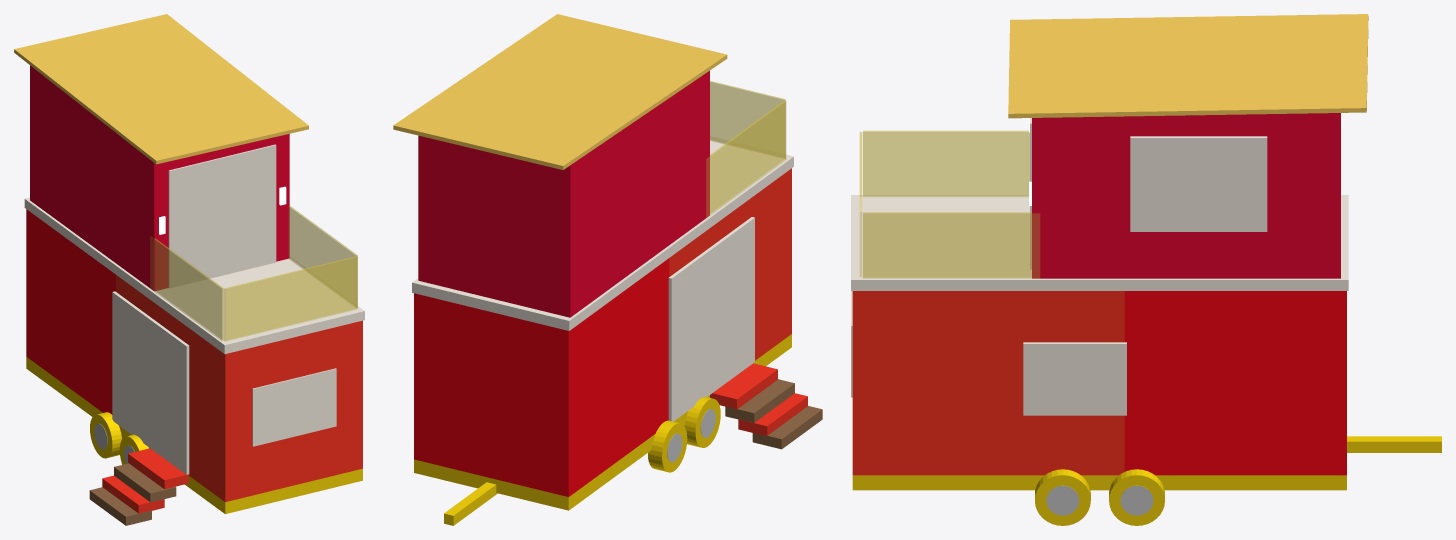
3 views of the same model, side by side, from view 1: azimuth 30°, elevation 25°; view 2: azimuth 150°, elevation 25°; view 3: azimuth 270°, elevation 25° (orthographic). The views are drawn at different scales.
Parts seen in each view (by area): view 1: Roof_TimberSoffit, GF_Front_Wood, Upper_Room_Body, Upper_Floor_Deck, GF_Rear_Charcoal, Balcony_Door_Trim, GF_Door_Trim, Balcony_Glass_Front, GF_FrontWin_Trim, Balcony_Glass_Left, Balcony_Glass_Right, Chassis_Base (+5 smaller); view 2: Upper_Room_Body, GF_Rear_Charcoal, Roof_TimberSoffit, GF_Door_Trim, Upper_Floor_Deck, GF_Front_Wood, Balcony_Glass_Left, Balcony_Glass_Front, Chassis_Base, Stair_Plank1, Stair_Plank1.001, Stair_Plank1.002 (+4 smaller); view 3: GF_Front_Wood, GF_Rear_Charcoal, Upper_Room_Body, Roof_TimberSoffit, Upper_Floor_Deck, Upper_SideWin_Trim, Balcony_Glass_Right, Balcony_Glass_Left, GF_RightWin_Trim, Chassis_Base, Tire_R_0.45, Tire_R_-0.45 (+3 smaller).
Boxes of the visible parts, x1=… form: Roof_TimberSoffit: x1=14, y1=14, x2=308, y2=164; GF_Front_Wood: x1=116, y1=275, x2=362, y2=502; Upper_Room_Body: x1=30, y1=65, x2=289, y2=291; Upper_Floor_Deck: x1=24, y1=197, x2=364, y2=353; GF_Rear_Charcoal: x1=26, y1=209, x2=115, y2=414; Balcony_Door_Trim: x1=168, y1=144, x2=276, y2=288; GF_Door_Trim: x1=112, y1=291, x2=189, y2=474; Balcony_Glass_Front: x1=224, y1=256, x2=357, y2=341; GF_FrontWin_Trim: x1=252, y1=368, x2=336, y2=446; Balcony_Glass_Left: x1=150, y1=237, x2=223, y2=340; Balcony_Glass_Right: x1=288, y1=206, x2=357, y2=307; Chassis_Base: x1=26, y1=357, x2=362, y2=514; Upper_Room_Body: x1=418, y1=71, x2=709, y2=317; GF_Rear_Charcoal: x1=414, y1=258, x2=669, y2=496; Roof_TimberSoffit: x1=393, y1=14, x2=727, y2=169; GF_Door_Trim: x1=668, y1=217, x2=754, y2=421; Upper_Floor_Deck: x1=412, y1=136, x2=793, y2=330; GF_Front_Wood: x1=669, y1=168, x2=791, y2=360; Balcony_Glass_Left: x1=706, y1=100, x2=786, y2=217; Balcony_Glass_Front: x1=710, y1=81, x2=785, y2=157; Chassis_Base: x1=414, y1=334, x2=791, y2=510; Stair_Plank1: x1=710, y1=363, x2=777, y2=409; Stair_Plank1.001: x1=725, y1=379, x2=794, y2=422; Stair_Plank1.002: x1=752, y1=406, x2=822, y2=449; GF_Front_Wood: x1=852, y1=291, x2=1124, y2=475; GF_Rear_Charcoal: x1=1124, y1=291, x2=1346, y2=475; Upper_Room_Body: x1=1032, y1=113, x2=1340, y2=278; Roof_TimberSoffit: x1=1008, y1=14, x2=1368, y2=118; Upper_Floor_Deck: x1=851, y1=195, x2=1348, y2=290; Upper_SideWin_Trim: x1=1130, y1=136, x2=1267, y2=231; Balcony_Glass_Right: x1=863, y1=212, x2=1039, y2=278; Balcony_Glass_Left: x1=863, y1=130, x2=1029, y2=196; GF_RightWin_Trim: x1=1023, y1=342, x2=1126, y2=415; Chassis_Base: x1=852, y1=475, x2=1346, y2=490; Tire_R_0.45: x1=1109, y1=469, x2=1164, y2=525; Tire_R_-0.45: x1=1035, y1=469, x2=1090, y2=525.
Size of the model in its own units: 3.69 by 5.63 by 7.17.
